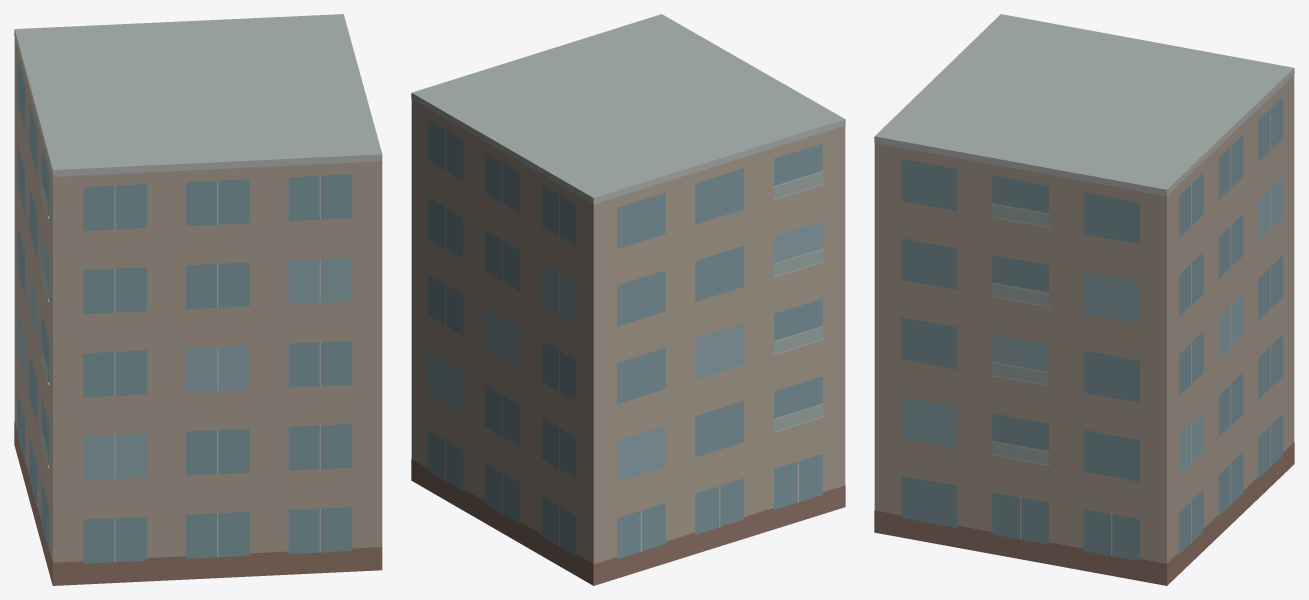
The model's file is survey-upis-33006623.glb.
The picture shows the model from 3 angles, left to right: view 1: azimuth 30°, elevation 25°; view 2: azimuth 150°, elevation 25°; view 3: azimuth 270°, elevation 25°; orthographic projection. The views are drawn at different scales.
Visible parts, largest first — view 1: survey-upis-33006623.tmp; view 2: survey-upis-33006623.tmp; view 3: survey-upis-33006623.tmp.
Boxes of the visible parts, <box> form: survey-upis-33006623.tmp: <box>14,14,382,585</box>; survey-upis-33006623.tmp: <box>411,14,845,585</box>; survey-upis-33006623.tmp: <box>874,14,1294,585</box>.
Size of the model in its own units: 14.09 by 14.8 by 14.23.
